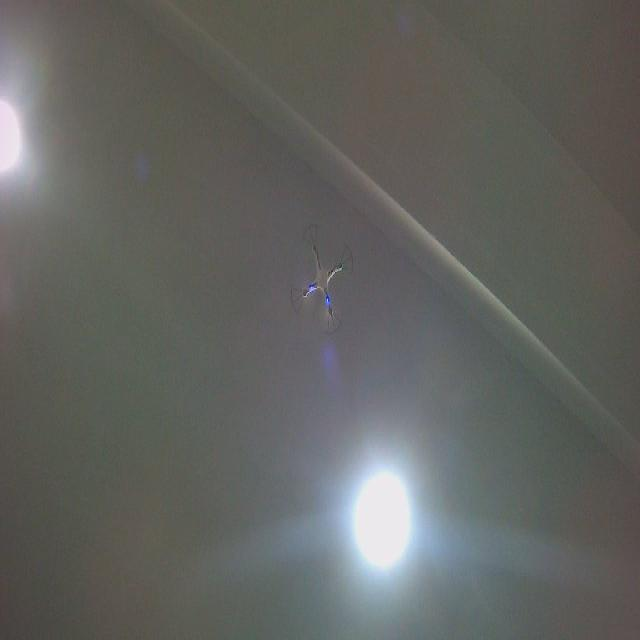drone: (289, 221, 358, 338)
